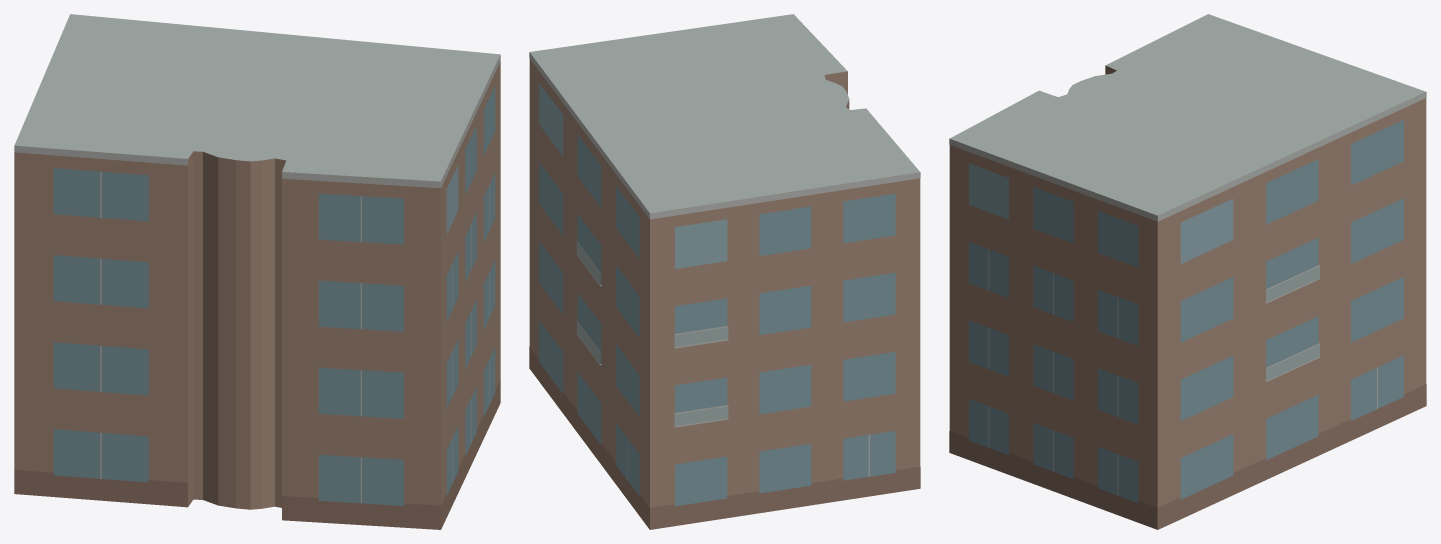
The model's file is survey-upis-32619253.glb.
The picture shows the model from 3 angles, left to right: view 1: azimuth 30°, elevation 25°; view 2: azimuth 150°, elevation 25°; view 3: azimuth 270°, elevation 25°; orthographic projection. The views are drawn at different scales.
Visible parts, largest first — view 1: survey-upis-32619253.tmp; view 2: survey-upis-32619253.tmp; view 3: survey-upis-32619253.tmp.
Part boxes in pixels (box(x1,y1,x2,y2)): survey-upis-32619253.tmp: box(14, 14, 500, 529); survey-upis-32619253.tmp: box(529, 14, 920, 529); survey-upis-32619253.tmp: box(949, 14, 1426, 529).
Size of the model in its own units: 17.5 by 12.7 by 17.48.
